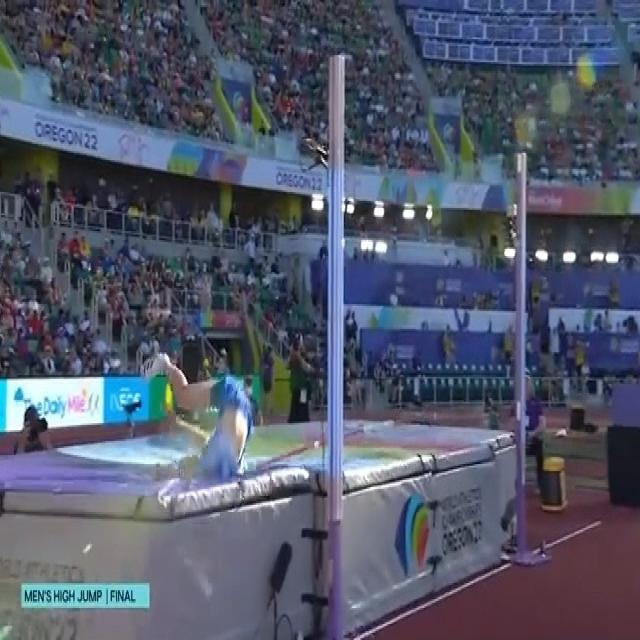land: (140, 353, 253, 481)
